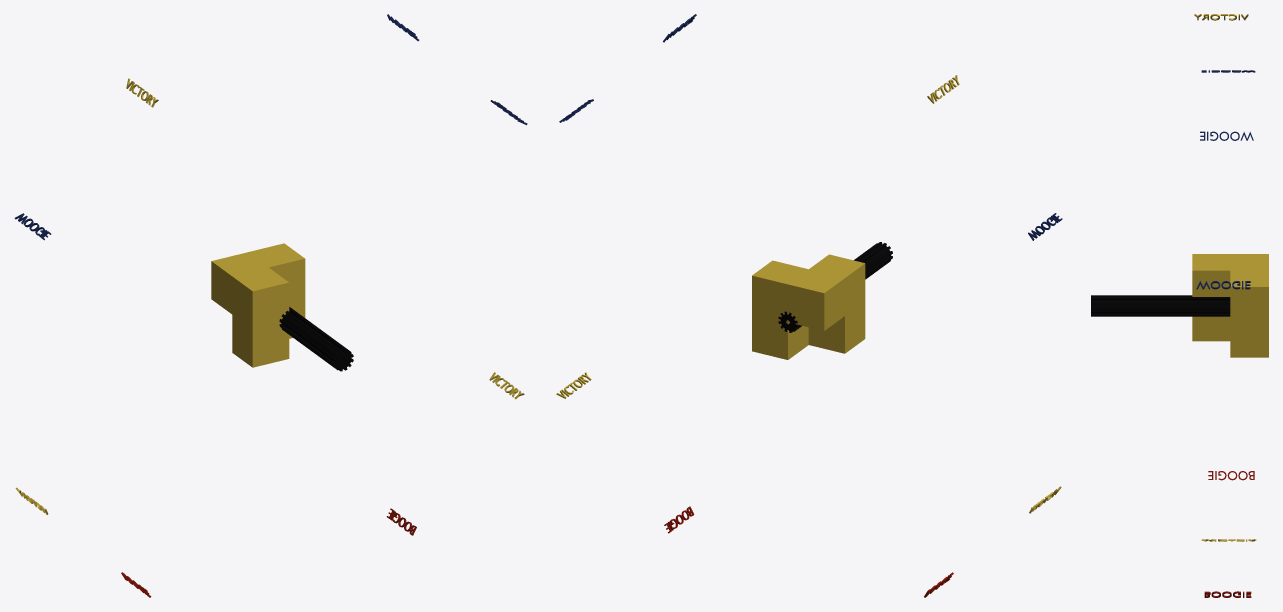
Rendered from rot_long_bridge3.gltf.
3 renders of one model, left to right at view 1: azimuth 30°, elevation 25°; view 2: azimuth 150°, elevation 25°; view 3: azimuth 270°, elevation 25°, orthographic. The views are drawn at different scales.
Parts seen in each view (by area): view 1: rot.long.bridge3; view 2: rot.long.bridge3; view 3: rot.long.bridge3.
Boxes of the visible parts, <box> form: rot.long.bridge3: <box>14,14,527,597</box>; rot.long.bridge3: <box>556,14,1062,597</box>; rot.long.bridge3: <box>1091,14,1268,597</box>.
Size of the model in its own units: 39.58 by 39.58 by 13.67.
